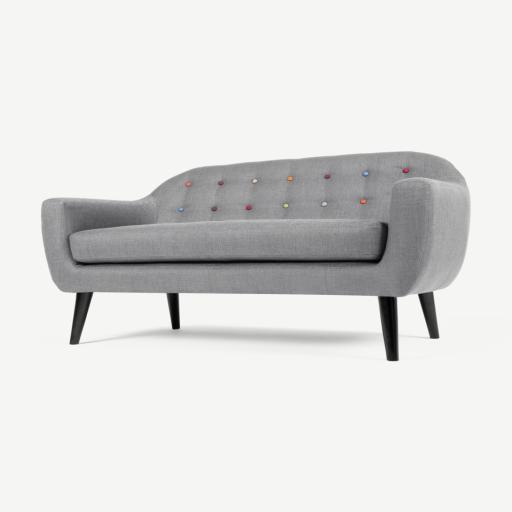back_cushion: (152, 152, 464, 222)
left_arm: (377, 177, 469, 296)
legs: (379, 297, 397, 360), (70, 293, 92, 344), (420, 293, 438, 338), (167, 293, 179, 329)
one-seater: (42, 151, 470, 361)
right_arm: (42, 197, 156, 291)
seat_cushion: (67, 217, 387, 263)
